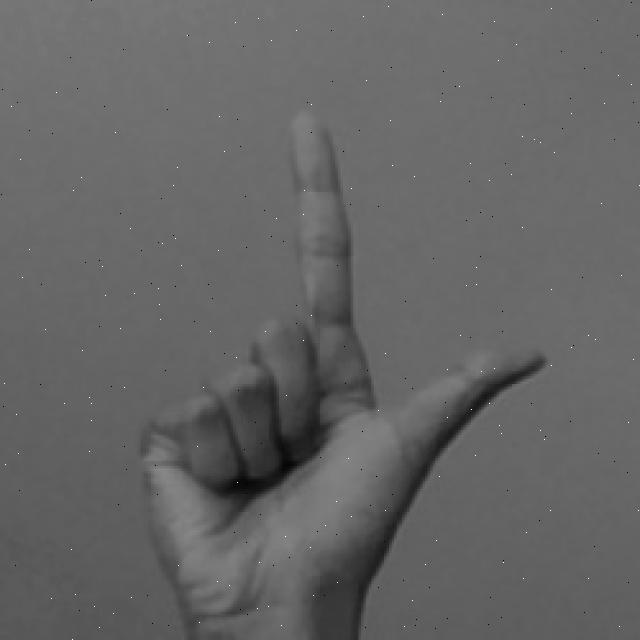L: (130, 105, 550, 640)
